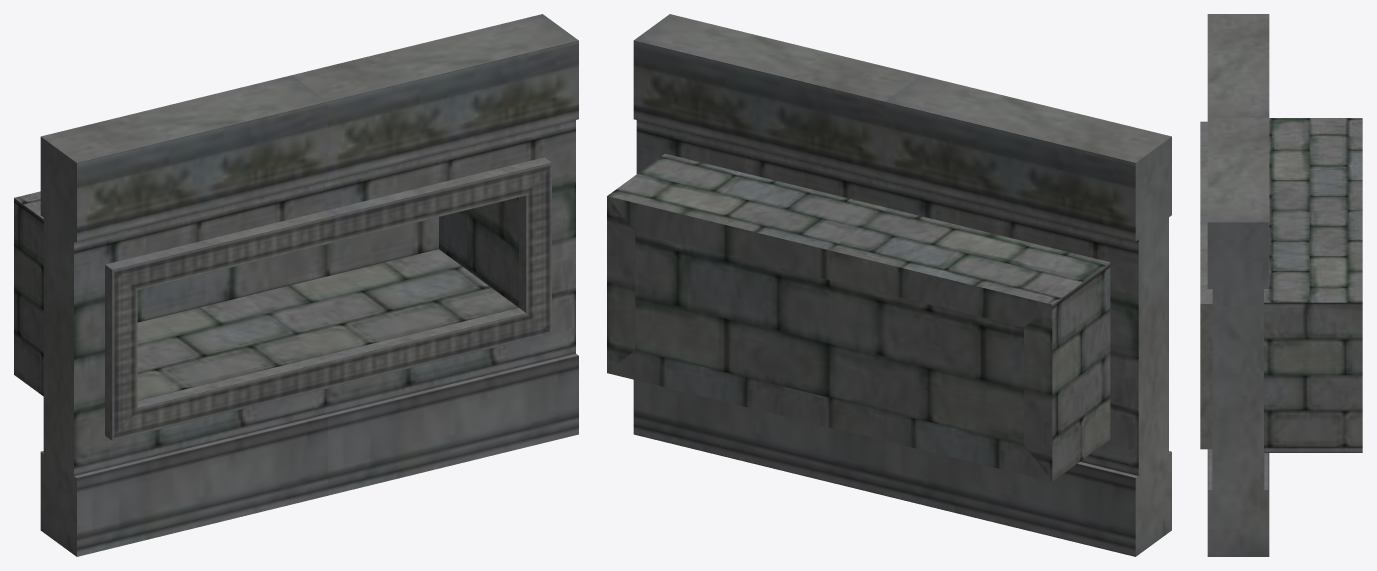
Rendered from sd_wall_large_02.glb.
3 renders of one model, left to right at view 1: azimuth 30°, elevation 25°; view 2: azimuth 150°, elevation 25°; view 3: azimuth 270°, elevation 25°, orthographic. The views are drawn at different scales.
Parts seen in each view (by area): view 1: wall_large_02; view 2: wall_large_02; view 3: wall_large_02.
Part boxes in pixels (left/top/right/bottom): wall_large_02: left=14, top=14, right=578, bottom=556; wall_large_02: left=607, top=14, right=1171, bottom=556; wall_large_02: left=1200, top=14, right=1362, bottom=556.
Bounding box in the file's own units: 4 × 3 × 1.32.
Materials: 1 (1 with a texture image).
